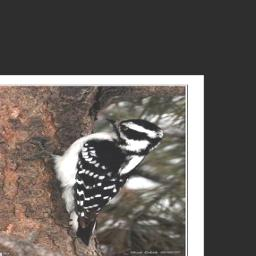Woodpecker: (31, 118, 164, 250)
